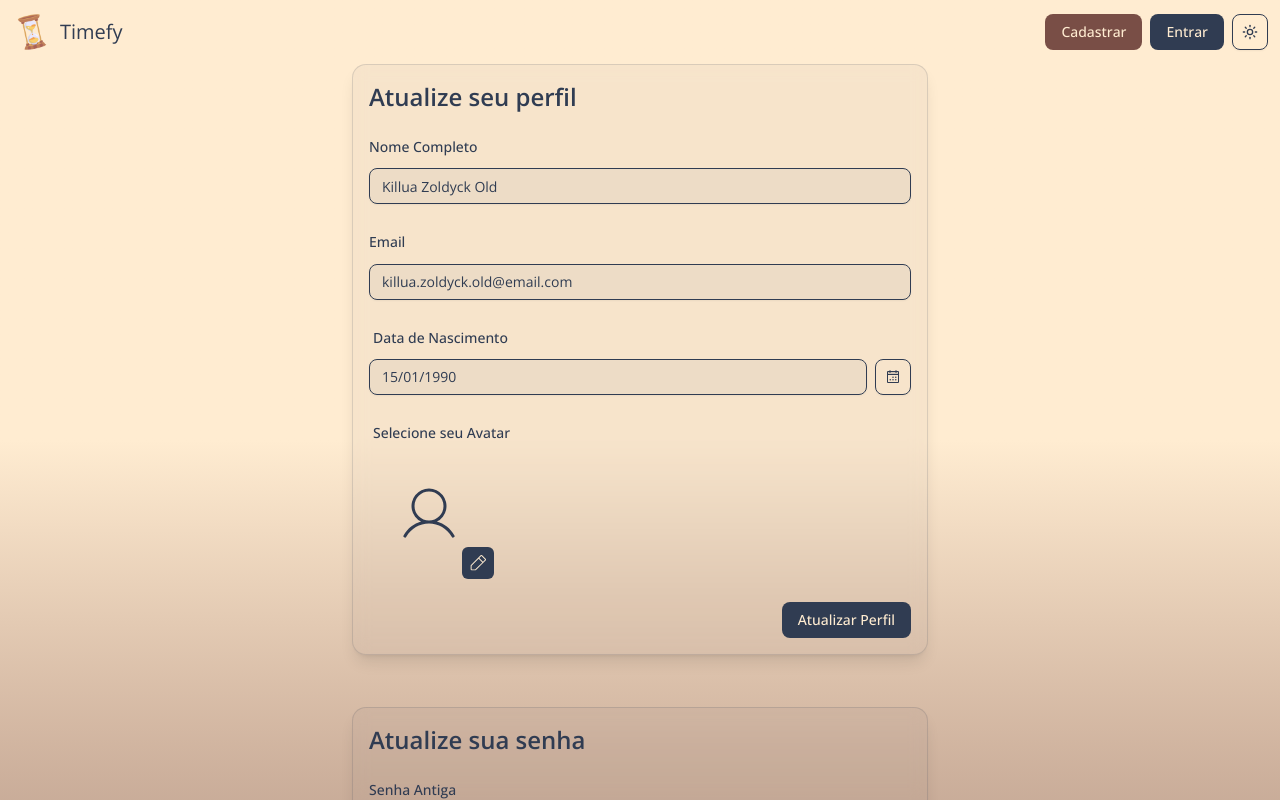
Test case: ProfilePage › Profile Update Form Validation › should show error when full name is too short
Step 1. Replace the text in the field labelled "Nome Completo" with "Ki" → coordinates (640, 186), box x1=369 y1=168 x2=911 y2=204
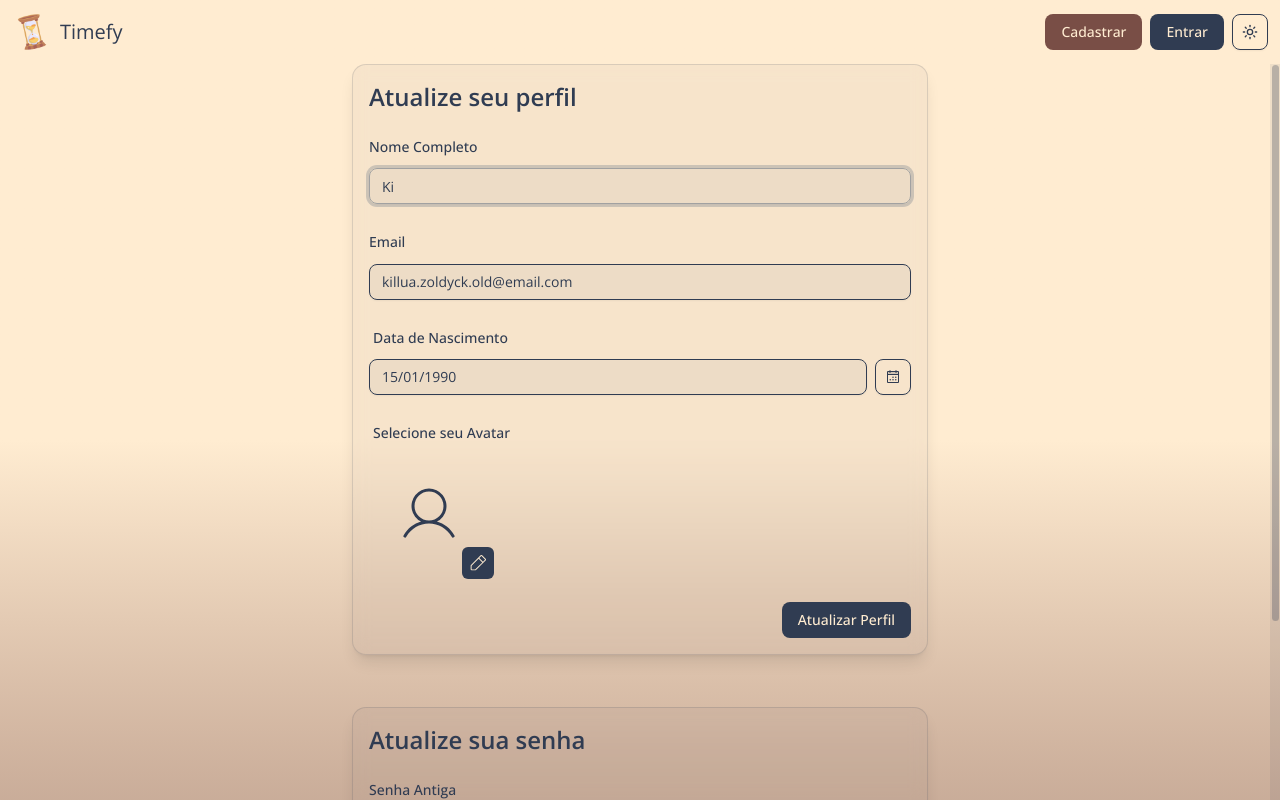
Step 2. Click the button "Atualizar Perfil" → coordinates (846, 620), box x1=782 y1=602 x2=911 y2=638
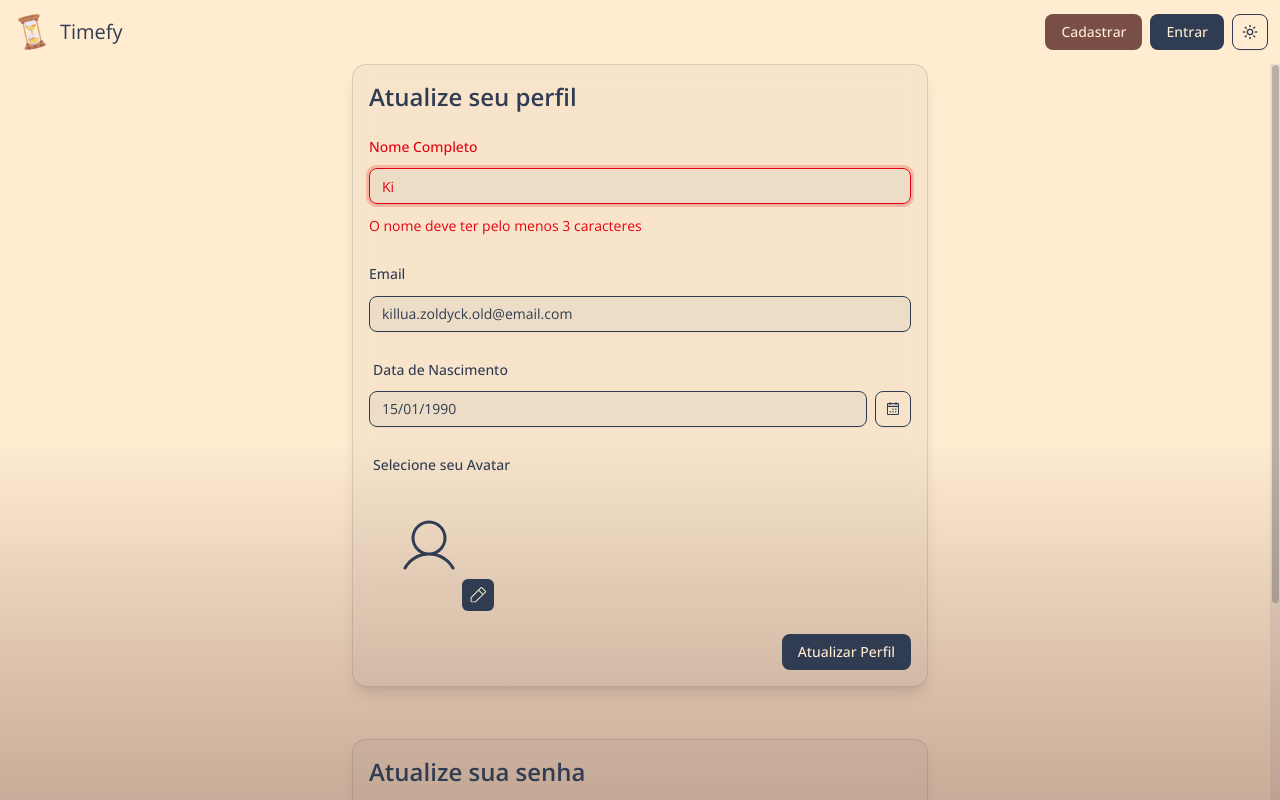
expect the text "O nome deve ter pelo menos 3 caracteres" is shown: met, box x1=369 y1=216 x2=642 y2=235
